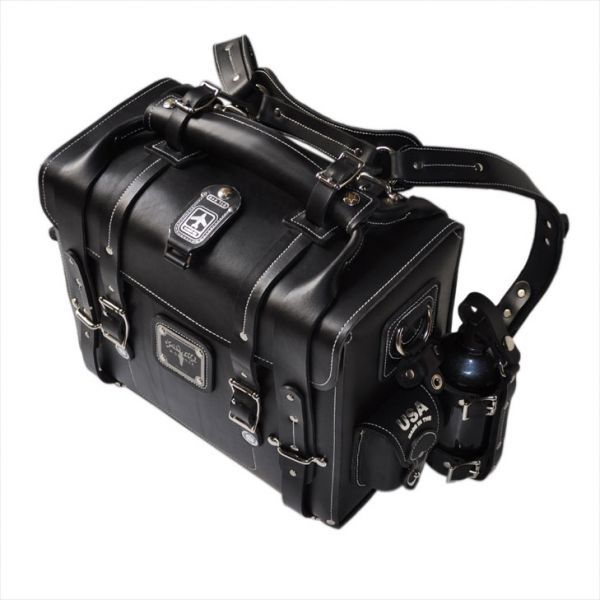cuero: (38, 35, 568, 529)
